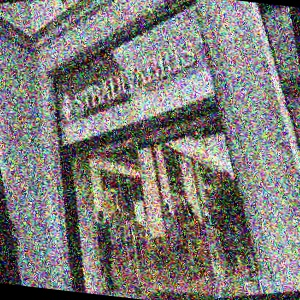stradivarius: (114, 37, 300, 93)
